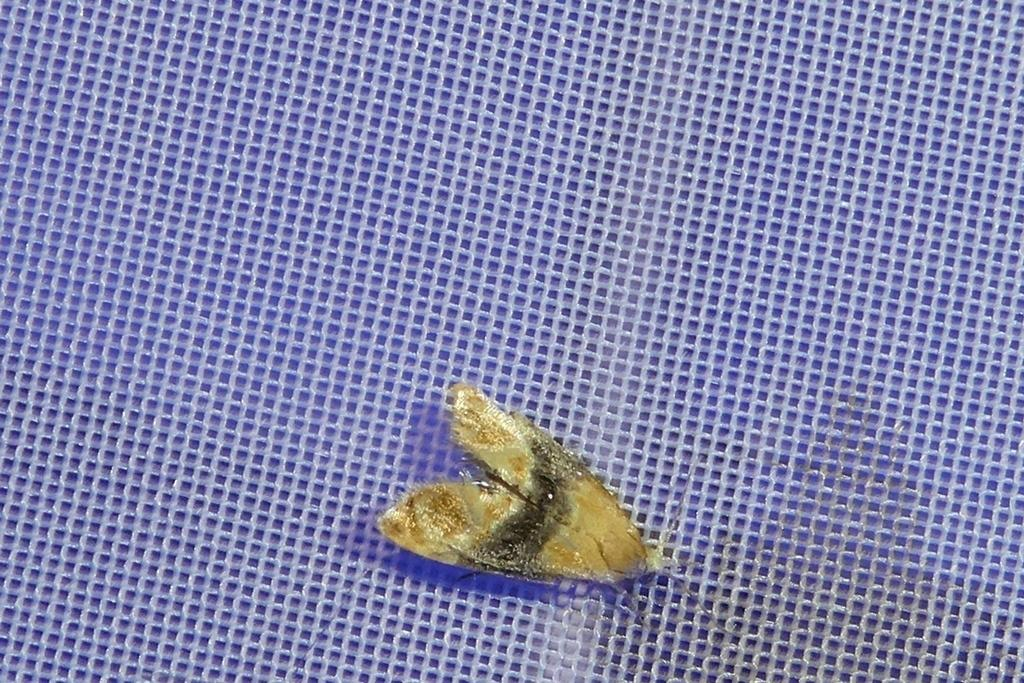Eupoecilia Ambiguella: (374, 379, 675, 588)
